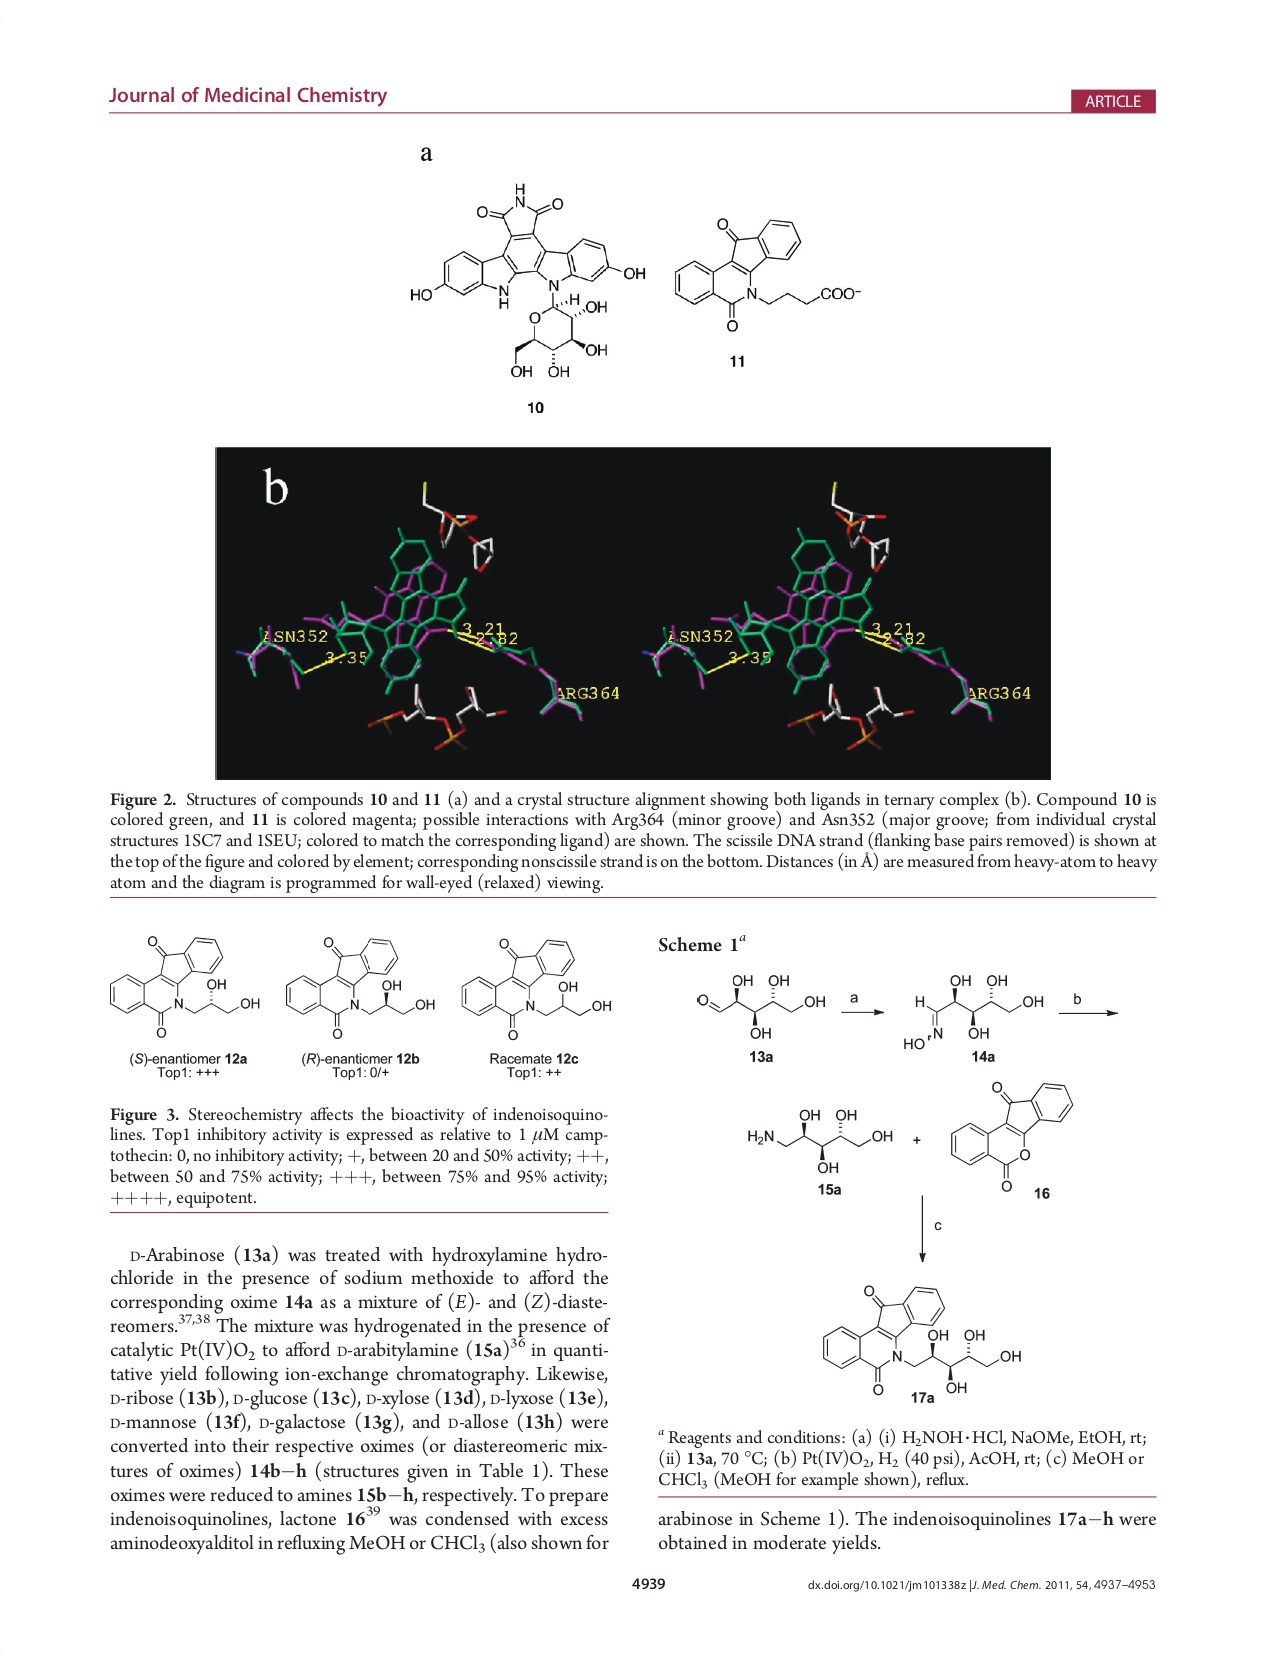exist_molecular: (406, 176, 649, 380), (670, 211, 864, 332), (819, 1282, 1027, 1394), (102, 930, 265, 1041), (457, 934, 617, 1043), (281, 931, 438, 1041), (946, 1077, 1075, 1194), (900, 969, 1047, 1049), (743, 1106, 898, 1177), (694, 969, 828, 1043)
